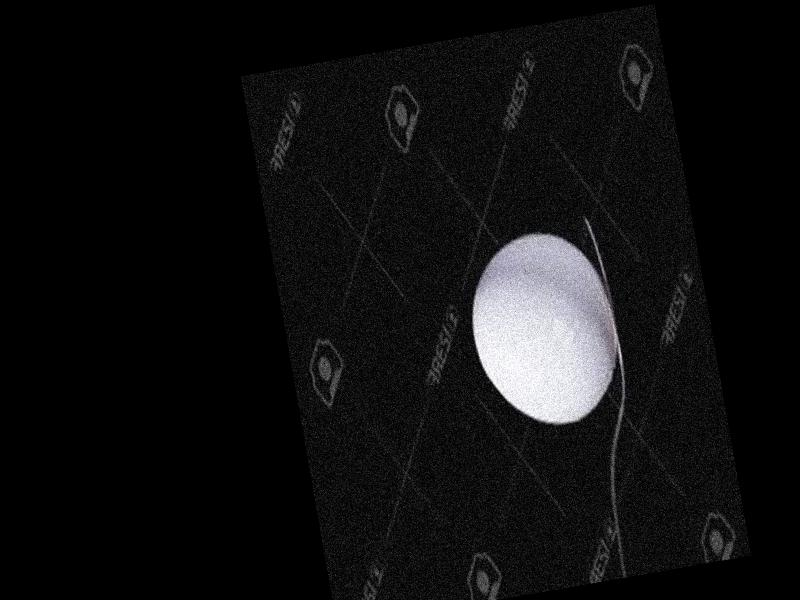Eggs: (460, 222, 630, 436)
